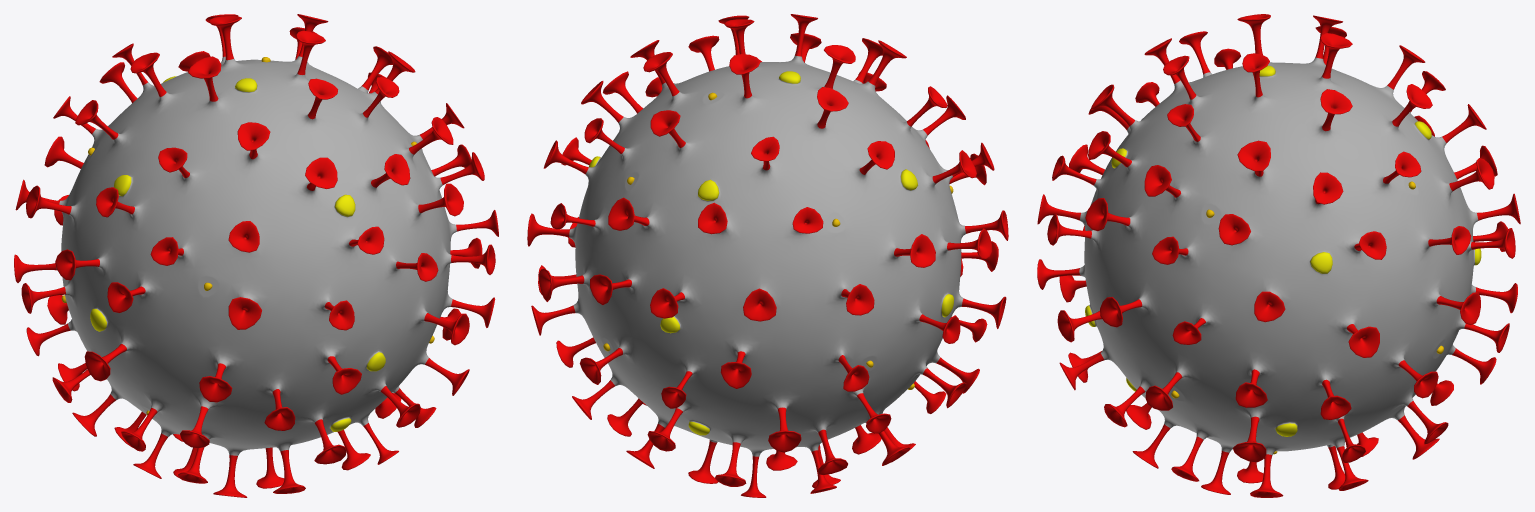
Rendered from virus.fbx.
The picture shows the model from 3 angles, left to right: view 1: azimuth 30°, elevation 25°; view 2: azimuth 150°, elevation 25°; view 3: azimuth 270°, elevation 25°; orthographic projection.
Visible parts, largest first — view 1: pSolid1; view 2: pSolid1; view 3: pSolid1.
Part boxes in pixels (x1,y1,x2,y2): pSolid1: (14, 14, 498, 497); pSolid1: (527, 14, 1008, 497); pSolid1: (1037, 14, 1520, 497).
Bounding box in the file's own units: 2.71 × 2.72 × 2.71.
